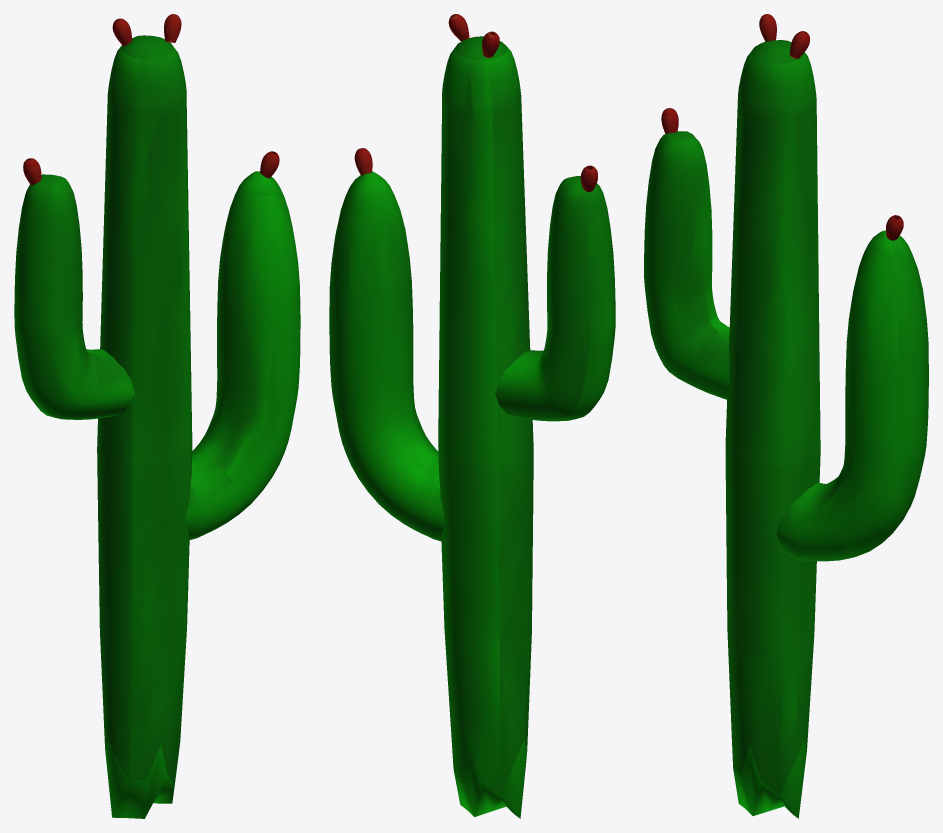
File: Cactus.fbx
3 renders of one model, left to right at view 1: azimuth 30°, elevation 25°; view 2: azimuth 150°, elevation 25°; view 3: azimuth 330°, elevation 25°, orthographic.
Visible parts, largest first — view 1: Y10507_Cactus_2:Object__2, Y10507_Cactus_2:Object__0; view 2: Y10507_Cactus_2:Object__2, Y10507_Cactus_2:Object__0; view 3: Y10507_Cactus_2:Object__2, Y10507_Cactus_2:Object__0.
Boxes of the visible parts, left/top/right/bottom form: Y10507_Cactus_2:Object__2: left=14, top=35, right=300, bottom=818; Y10507_Cactus_2:Object__0: left=23, top=14, right=279, bottom=185; Y10507_Cactus_2:Object__2: left=329, top=36, right=615, bottom=818; Y10507_Cactus_2:Object__0: left=354, top=14, right=597, bottom=192; Y10507_Cactus_2:Object__2: left=644, top=40, right=928, bottom=818; Y10507_Cactus_2:Object__0: left=661, top=14, right=903, bottom=240.
Bounding box in the file's own units: 1.16 × 3.15 × 0.3497.
Materials: 2 (2 with a texture image).
